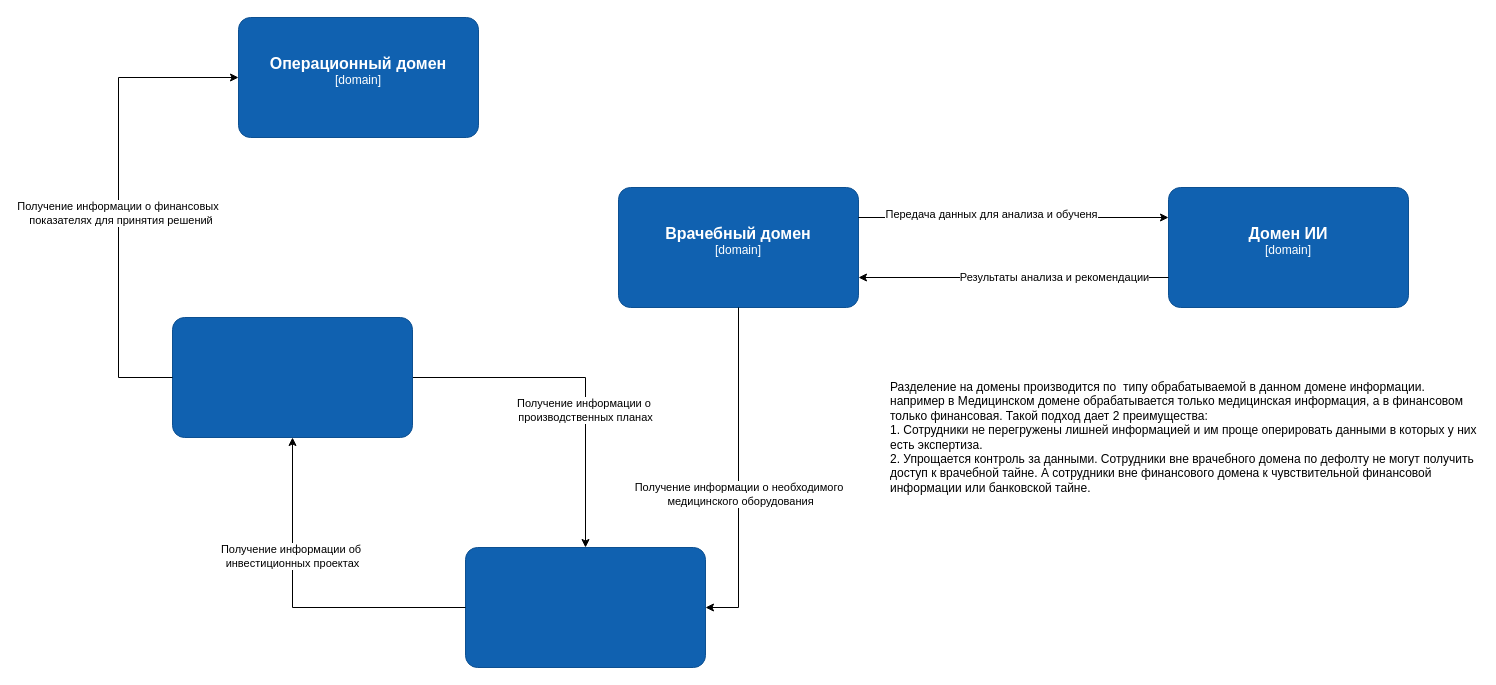
The diagram is 1496 pixels wide and 685 high, and some of its shapes have lost their labels. The shapes that lost their labels are listed below. From the top down, each one's box as (x1, y1, x2, y2) in pixels, then its label:
(172, 316, 412, 438): Финансовый домен [domain]
(464, 546, 706, 668): Производственный домен [domain]
